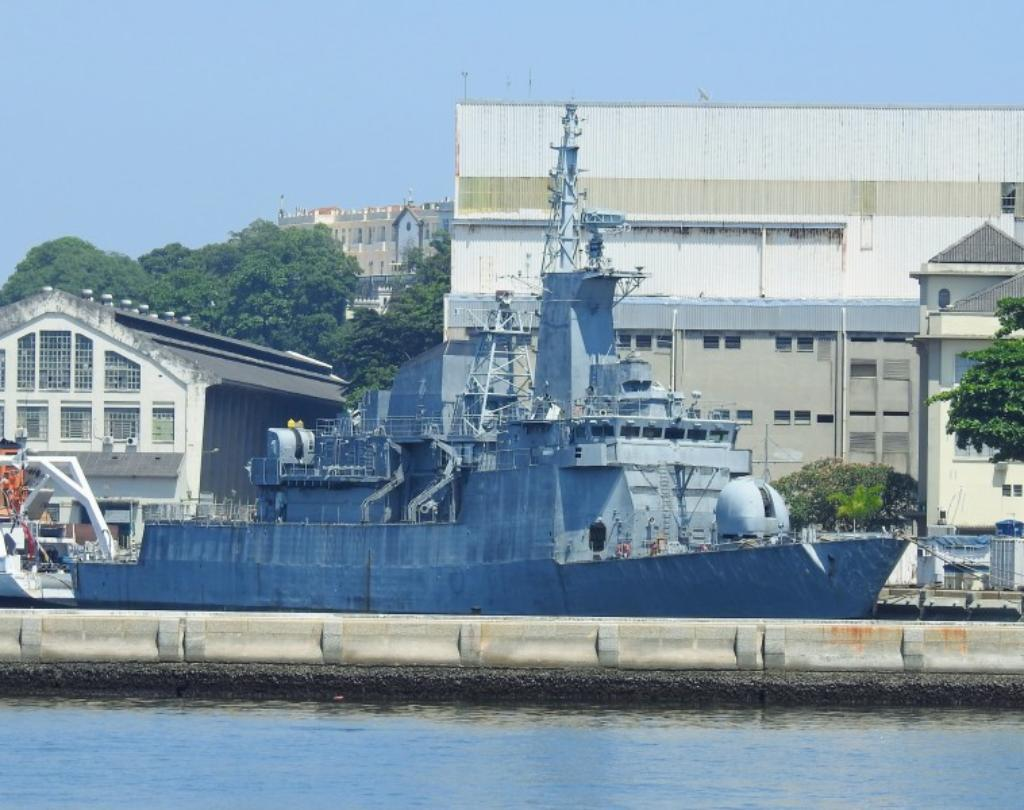Warship: (66, 101, 914, 614)
